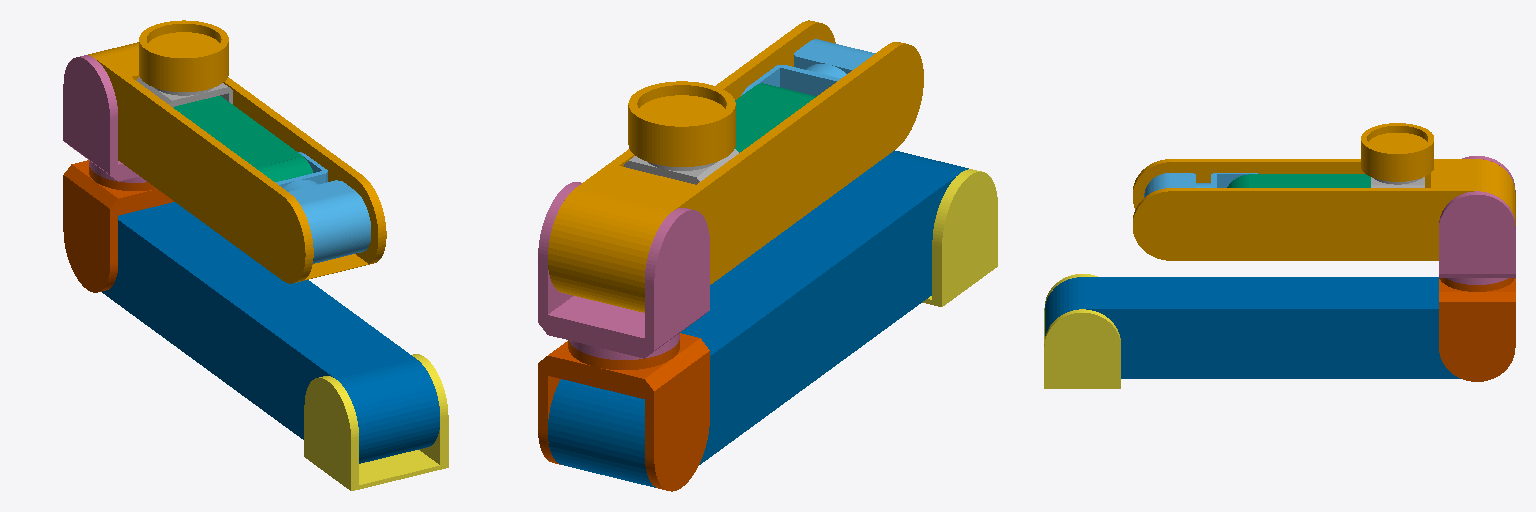
The robot description file, URDF, robot "for":
<?xml version='1.0' encoding='utf-8'?>
<robot name="for">
    <link name="middle_arm">
        <inertial>
            <origin xyz="-0.006821813314628998 -0.1532041560338326 0.05000000000000082" rpy="0.0 -0.0 0.0" />
            <mass value="14.913336866289496" />
            <inertia ixx="0.3456641663469676" iyy="0.033127800192854884" izz="0.3412699882035891" ixy="-0.008837326981739557" iyz="-2.240376359976674e-16" ixz="-1.0096436329707436e-15" />
        </inertial>
        <visual name="middle_arm_visual">
            <origin xyz="0.23000000000000087 -0.2150000000000016 0.05000000000000074" rpy="1.0317267873372e-15 -1.5707963267948937 0" />
            <geometry>
                <mesh filename="package://arm_description/meshes/middle_arm.stl" scale="0.001 0.001 0.001" />
            </geometry>
        </visual>
        <collision name="middle_arm_collision">
            <origin xyz="0.23000000000000087 -0.2150000000000016 0.05000000000000074" rpy="1.0317267873372e-15 -1.5707963267948937 0" />
            <geometry>
                <mesh filename="package://arm_description/meshes/middle_arm.stl" scale="0.001 0.001 0.001" />
            </geometry>
        </collision>
    </link>
    <link name="middle_joint">
        <inertial>
            <origin xyz="-6.750155989720952e-16 -0.0065165722705416585 -0.04000000000000133" rpy="0.0 -0.0 0.0" />
            <mass value="2.4815724758018978" />
            <inertia ixx="0.0023990415702580536" iyy="0.0022574261860321965" izz="0.002172420223713223" ixy="4.163336342344337e-17" iyz="8.016912307078491e-18" ixz="-1.587132717554275e-17" />
        </inertial>
        <visual name="middle_joint_visual">
            <origin xyz="0.2299999999999995 -0.18499999999999783 -0.04000000000000054" rpy="-3.1415926535897922 1.5707963267948928 0" />
            <geometry>
                <mesh filename="package://arm_description/meshes/middle_joint.stl" scale="0.001 0.001 0.001" />
            </geometry>
        </visual>
        <collision name="middle_joint_collision">
            <origin xyz="0.2299999999999995 -0.18499999999999783 -0.04000000000000054" rpy="-3.1415926535897922 1.5707963267948928 0" />
            <geometry>
                <mesh filename="package://arm_description/meshes/middle_joint.stl" scale="0.001 0.001 0.001" />
            </geometry>
        </collision>
    </link>
    <link name="end_arm">
        <inertial>
            <origin xyz="0.00017296597296638795 -0.0955928007405587 -0.03500000000000232" rpy="0.0 -0.0 0.0" />
            <mass value="8.692067657781596" />
            <inertia ixx="0.04478719129792861" iyy="0.007156272496323668" izz="0.04484494187373855" ixy="1.2648704068807248e-05" iyz="2.643232454991465e-16" ixz="-4.07832905001567e-15" />
        </inertial>
        <visual name="end_arm_visual">
            <origin xyz="0.23000000000000767 -0.08000000000000071 -0.03500000000000412" rpy="-3.1415926535897922 1.5707963267948926 0" />
            <geometry>
                <mesh filename="package://arm_description/meshes/end_arm.stl" scale="0.001 0.001 0.001" />
            </geometry>
        </visual>
        <collision name="end_arm_collision">
            <origin xyz="0.23000000000000767 -0.08000000000000071 -0.03500000000000412" rpy="-3.1415926535897922 1.5707963267948926 0" />
            <geometry>
                <mesh filename="package://arm_description/meshes/end_arm.stl" scale="0.001 0.001 0.001" />
            </geometry>
        </collision>
    </link>
    <link name="base_link">
        <inertial>
            <origin xyz="0.0 -0.30000000000000004 0.049192069318732934" rpy="0.0 0.0 0.0" />
            <mass value="3.492381453934488" />
            <inertia ixx="0.004385396235027539" iyy="0.00898624245054548" izz="0.008077354797414282" ixy="8.567440090700984e-18" iyz="-1.3877787807814457e-17" ixz="-1.4279066817834973e-18" />
        </inertial>
        <visual name="base_link_visual">
            <origin xyz="0.0 0.0 0.0" rpy="0.0 0.0 0.0" />
            <geometry>
                <mesh filename="package://arm_description/meshes/base_link.stl" scale="0.001 0.001 0.001" />
            </geometry>
        </visual>
        <collision name="base_link_collision">
            <origin xyz="0.0 0.0 0.0" rpy="0.0 0.0 0.0" />
            <geometry>
                <mesh filename="package://arm_description/meshes/base_link.stl" scale="0.001 0.001 0.001" />
            </geometry>
        </collision>
    </link>
    <link name="bottom_arm">
        <inertial>
            <origin xyz="-8.881784197001253e-17 -0.25750000000009193 0.04999999999999999" rpy="0.0 -0.0 0.0" />
            <mass value="43.51018779133492" />
            <inertia ixx="1.2049427875736067" iyy="0.07331976297533455" izz="1.205745570896721" ixy="-1.8041124150158794e-16" iyz="1.1484879674491842e-16" ixz="1.599081144887326e-16" />
        </inertial>
        <visual name="bottom_arm_visual">
            <origin xyz="-0.059999999999999984 -0.21499999999999975 0.04999999999999998" rpy="-0.0 1.5707963267948966 0" />
            <geometry>
                <mesh filename="package://arm_description/meshes/bottom_arm.stl" scale="0.001 0.001 0.001" />
            </geometry>
        </visual>
        <collision name="bottom_arm_collision">
            <origin xyz="-0.059999999999999984 -0.21499999999999975 0.04999999999999998" rpy="-0.0 1.5707963267948966 0" />
            <geometry>
                <mesh filename="package://arm_description/meshes/bottom_arm.stl" scale="0.001 0.001 0.001" />
            </geometry>
        </collision>
    </link>
    <link name="double_hinge_1">
        <inertial>
            <origin xyz="0.037688201448005214 -4.263256414560601e-16 -0.04999999999999995" rpy="1.3684555315672042e-48 -1.3684555315672045e-48 0.0" />
            <mass value="4.364478285234242" />
            <inertia ixx="0.010933091857069529" iyy="0.013601374091802999" izz="0.00880246045395322" ixy="5.5511151231257815e-17" iyz="2.788017890091272e-17" ixz="3.145486945329299e-17" />
        </inertial>
        <visual name="double_hinge_1_visual">
            <origin xyz="-0.20000000000000018 -0.05000000000000057 -0.04999999999999997" rpy="-1.5707963267948961 -1.5707963267948963 0" />
            <geometry>
                <mesh filename="package://arm_description/meshes/double_hinge_1.stl" scale="0.001 0.001 0.001" />
            </geometry>
        </visual>
        <collision name="double_hinge_1_collision">
            <origin xyz="-0.20000000000000018 -0.05000000000000057 -0.04999999999999997" rpy="-1.5707963267948961 -1.5707963267948963 0" />
            <geometry>
                <mesh filename="package://arm_description/meshes/double_hinge_1.stl" scale="0.001 0.001 0.001" />
            </geometry>
        </collision>
    </link>
    <link name="double_hinge_2">
        <inertial>
            <origin xyz="-1.2876682965766517e-17 -0.05419056169125146 -4.263256414560601e-16" rpy="0.0 -0.0 0.0" />
            <mass value="4.67274706436774" />
            <inertia ixx="0.00950541138801303" iyy="0.01102942585054853" izz="0.014304325025858267" ixy="2.609845593342295e-16" iyz="3.608224830031759e-16" ixz="1.5823643597379597e-15" />
        </inertial>
        <visual name="double_hinge_2_visual">
            <origin xyz="1.0991207926034845e-16 0.27499999999999974 0.0499999999999995" rpy="3.1415926535897927 -2.2168155435431945e-16 5.415688790932895e-16" />
            <geometry>
                <mesh filename="package://arm_description/meshes/double_hinge_2.stl" scale="0.001 0.001 0.001" />
            </geometry>
        </visual>
        <collision name="double_hinge_2_collision">
            <origin xyz="1.0991207926034845e-16 0.27499999999999974 0.0499999999999995" rpy="3.1415926535897927 -2.2168155435431945e-16 5.415688790932895e-16" />
            <geometry>
                <mesh filename="package://arm_description/meshes/double_hinge_2.stl" scale="0.001 0.001 0.001" />
            </geometry>
        </collision>
    </link>
    <link name="end_hinge">
        <inertial>
            <origin xyz="0.04334767385960195 3.125622995980848e-09 -0.03500000000000026" rpy="-4.66414641492302e-93 -0.0 0.0" />
            <mass value="1.8425529334040007" />
            <inertia ixx="0.0017065787191412572" iyy="0.0028506776781958287" izz="0.0022766801931930203" ixy="-6.93889390390723e-18" iyz="-1.349129719192973e-18" ixz="-1.3067917138786373e-18" />
        </inertial>
        <visual name="end_hinge_visual">
            <origin xyz="-0.08000000190467255 0.23000000312562272 -0.03500000000000119" rpy="1.5707963267948994 -1.5707963267948928 0" />
            <geometry>
                <mesh filename="package://arm_description/meshes/end_hinge.stl" scale="0.001 0.001 0.001" />
            </geometry>
        </visual>
        <collision name="end_hinge_collision">
            <origin xyz="-0.08000000190467255 0.23000000312562272 -0.03500000000000119" rpy="1.5707963267948994 -1.5707963267948928 0" />
            <geometry>
                <mesh filename="package://arm_description/meshes/end_hinge.stl" scale="0.001 0.001 0.001" />
            </geometry>
        </collision>
    </link>
    <link name="effector">
        <inertial>
            <origin xyz="-1.8358539606686745e-16 -9.678477748060743e-05 -3.125622463073796e-09" rpy="0.0 -0.0 0.0" />
            <mass value="1.2740132104029298" />
            <inertia ixx="0.001096661275770655" iyy="0.0019325263719418735" izz="0.0010966612757706828" ixy="-1.228166048708614e-18" iyz="9.923322481625804e-49" ixz="-3.575970261924019e-18" />
        </inertial>
        <visual name="effector_visual">
            <origin xyz="-2.197930563591016e-13 -0.14731526000000084 0.11118834374874897" rpy="-1.5707963267948912 -1.9796710251879093e-12 3.8712692714181136e-15" />
            <geometry>
                <mesh filename="package://arm_description/meshes/effector.stl" scale="0.001 0.001 0.001" />
            </geometry>
        </visual>
        <collision name="effector_collision">
            <origin xyz="-2.197930563591016e-13 -0.14731526000000084 0.11118834374874897" rpy="-1.5707963267948912 -1.9796710251879093e-12 3.8712692714181136e-15" />
            <geometry>
                <mesh filename="package://arm_description/meshes/effector.stl" scale="0.001 0.001 0.001" />
            </geometry>
        </collision>
    </link>
    <link name="middle_hinge">
        <inertial>
            <origin xyz="-1.084588906092738e-15 7.460698725481052e-16 0.03337616066718633" rpy="0.0 -0.0 0.0" />
            <mass value="1.238346126302344" />
            <inertia ixx="0.0013074725172245866" iyy="0.0018814700022272892" izz="0.0013365020497914937" ixy="2.327640243039969e-19" iyz="1.0408340855860843e-17" ixz="-1.5078296759492959e-18" />
        </inertial>
        <visual name="middle_hinge_visual">
            <origin xyz="-5.195843755245733e-16 -0.22999999999999915 0.1424999999999975" rpy="1.5707963267948974 -3.9340553169929316e-15 -3.1415926535897927" />
            <geometry>
                <mesh filename="package://arm_description/meshes/middle_hinge.stl" scale="0.001 0.001 0.001" />
            </geometry>
        </visual>
        <collision name="middle_hinge_collision">
            <origin xyz="-5.195843755245733e-16 -0.22999999999999915 0.1424999999999975" rpy="1.5707963267948974 -3.9340553169929316e-15 -3.1415926535897927" />
            <geometry>
                <mesh filename="package://arm_description/meshes/middle_hinge.stl" scale="0.001 0.001 0.001" />
            </geometry>
        </collision>
    </link>
    <joint name="base_revolute" type="revolute">
        <origin xyz="-0.05 -0.3 0.06" rpy="-3.141592653589793 -1.5707963267948966 0" />
        <parent link="base_link" />
        <child link="bottom_arm" />
        <axis xyz="0.0 0.0 1.0" />
        <limit lower="0.0" upper="3.141593" effort="100" velocity="5.25" />
    </joint>
    <joint name="double_revolute_1" type="revolute">
        <origin xyz="0.0 -0.515 0.0" rpy="-3.141592653589793 1.2325951644078312e-32 0.0" />
        <parent link="bottom_arm" />
        <child link="double_hinge_1" />
        <axis xyz="-1.232595164407831e-32 -7.264100934339954e-33 -1.0" />
        <limit lower="-3.141593" upper="0.0" effort="100" velocity="5.25" />
    </joint>
    <joint name="double_spin" type="revolute">
        <origin xyz="0.075 0.0 -0.05" rpy="-1.5707963267948966 1.5707963267948966 0" />
        <parent link="double_hinge_1" />
        <child link="double_hinge_2" />
        <axis xyz="-2.394370405175024e-34 -1.0 9.860761315262648e-32" />
        <limit lower="-1.570796" upper="1.570796" effort="100" velocity="5.25" />
    </joint>
    <joint name="double_revolute_2" type="revolute">
        <origin xyz="0.05 -0.095 0.0" rpy="1.5707963267948966 -4.930380657631324e-32 -1.5707963267948966" />
        <parent link="double_hinge_2" />
        <child link="middle_arm" />
        <axis xyz="-3.3770725482791246e-31 0.0 1.0" />
        <limit lower="0" upper="3.141593" effort="100" velocity="5.25" />
    </joint>
    <joint name="middle_revolute" type="revolute">
        <origin xyz="0.0 -0.4 0.01" rpy="-3.141592653589793 -5.3492248113316545e-31 -1.9721522630525295e-31" />
        <parent link="middle_arm" />
        <child link="middle_joint" />
        <axis xyz="1.9721522630525295e-31 -8.8423821631989e-31 -1.0" />
        <limit lower="-3.141593" upper="0.0" effort="100" velocity="5.25" />
    </joint>
    <joint name="end_revolute_1" type="revolute">
        <origin xyz="0.035 0.0 0.0625" rpy="-1.5707963267948966 1.9721522630525295e-31 -1.5707963267948966" />
        <parent link="middle_hinge" />
        <child link="end_arm" />
        <axis xyz="0.0 3.5809630637045637e-31 -1.0" />
        <limit lower="-1.570796" upper="1.570796" effort="100" velocity="5.25" />
    </joint>
    <joint name="end_revolute_2" type="revolute">
        <origin xyz="0.0001847400000000121 -0.19118835 0.0" rpy="2.9813635182538454e-31 3.5311022049962373e-62 -9.860761315262648e-32" />
        <parent link="end_arm" />
        <child link="end_hinge" />
        <axis xyz="0.0 5.995995454507183e-32 -1.0" />
        <limit lower="0" upper="3.141593" effort="100" velocity="5.25" />
    </joint>
    <joint name="middle_spin" type="revolute">
        <origin xyz="0.0 -0.0425 -0.04" rpy="1.5707963267948966 -1.5707963267948966 0" />
        <parent link="middle_joint" />
        <child link="middle_hinge" />
        <axis xyz="2.4316648279921467e-31 -1.9721522630525295e-31 1.0" />
        <limit lower="-1.570796" upper="1.570796" effort="100" velocity="5.25" />
    </joint>
    <joint name="effector_spin" type="continuous">
        <origin xyz="0.0825 0.0 -0.035" rpy="1.5707963267948966 -1.5707963267948966 0" />
        <parent link="end_hinge" />
        <child link="effector" />
        <axis xyz="0.0 1.0 0.0" />
    </joint>
</robot>

--- What the picture shows (computed from the rendered views, not written in the file) ---
The picture shows the robot from 3 angles, left to right: view 1: azimuth 30°, elevation 25°; view 2: azimuth 150°, elevation 25°; view 3: azimuth 270°, elevation 25°; orthographic projection.
Model for with 10 links and 9 joints (8 revolute, 1 continuous), rooted at base_link, posed every joint at zero.
Links seen in each view (by area): view 1: bottom_arm, middle_arm, base_link, double_hinge_1, double_hinge_2, effector, end_arm, middle_joint, end_hinge, middle_hinge; view 2: bottom_arm, middle_arm, double_hinge_2, double_hinge_1, effector, base_link, end_arm, middle_joint, middle_hinge, end_hinge; view 3: bottom_arm, middle_arm, double_hinge_1, double_hinge_2, base_link, effector, end_arm, middle_joint.
Link boxes in pixels (<box>): bottom_arm: <box>102,202,439,463</box>; middle_arm: <box>88,42,386,283</box>; base_link: <box>304,354,448,490</box>; double_hinge_1: <box>63,160,173,292</box>; double_hinge_2: <box>63,55,146,182</box>; effector: <box>139,20,228,91</box>; end_arm: <box>173,96,312,181</box>; middle_joint: <box>288,180,370,263</box>; end_hinge: <box>136,77,232,106</box>; middle_hinge: <box>275,152,327,191</box>; bottom_arm: <box>548,150,968,487</box>; middle_arm: <box>548,20,923,312</box>; double_hinge_2: <box>538,182,709,359</box>; double_hinge_1: <box>538,333,709,491</box>; effector: <box>628,81,735,166</box>; base_link: <box>922,169,997,306</box>; end_arm: <box>735,83,816,152</box>; middle_joint: <box>794,39,875,77</box>; middle_hinge: <box>741,65,840,95</box>; end_hinge: <box>624,149,738,184</box>; bottom_arm: <box>1045,277,1460,378</box>; middle_arm: <box>1133,159,1515,260</box>; double_hinge_1: <box>1439,278,1515,381</box>; double_hinge_2: <box>1439,156,1515,284</box>; base_link: <box>1044,274,1120,388</box>; effector: <box>1361,123,1433,181</box>; end_arm: <box>1227,174,1370,187</box>; middle_joint: <box>1144,173,1202,197</box>.
Size in the robot's own frame: 0.12 by 0.615 by 0.3327 metres.
Meshes: 10 distinct files referenced, 10 mesh visuals loaded (10 binary STL).